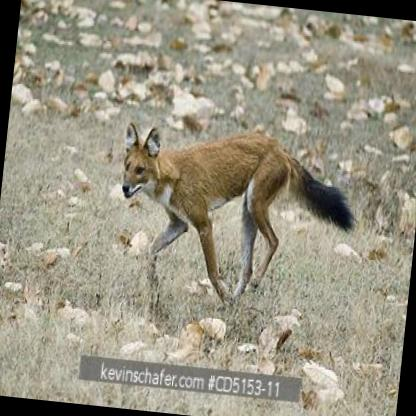dhole: (107, 116, 367, 314)
